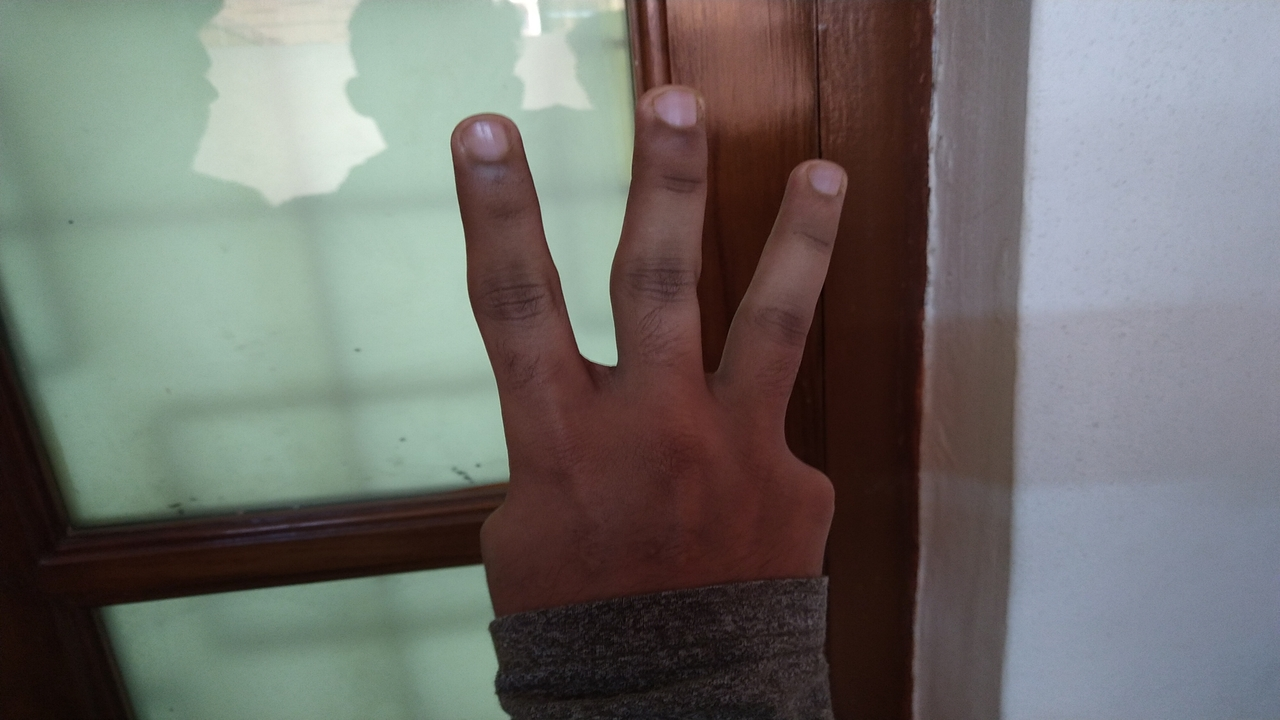fingertip: (448, 110, 526, 176), (632, 80, 710, 144), (784, 154, 856, 214)
